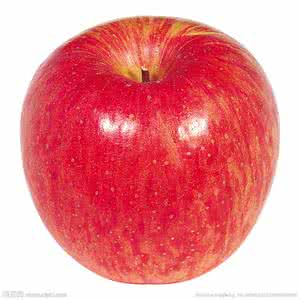apple: (22, 23, 285, 286)
